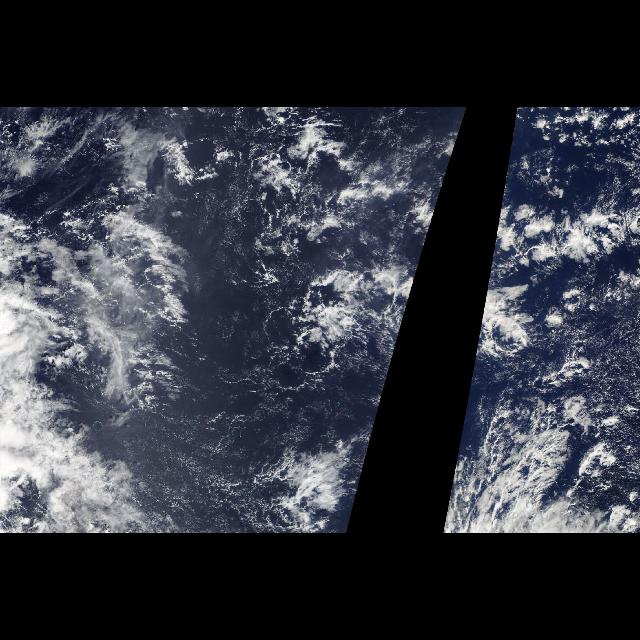Gravel: (242, 136, 458, 366), (471, 136, 615, 366)
